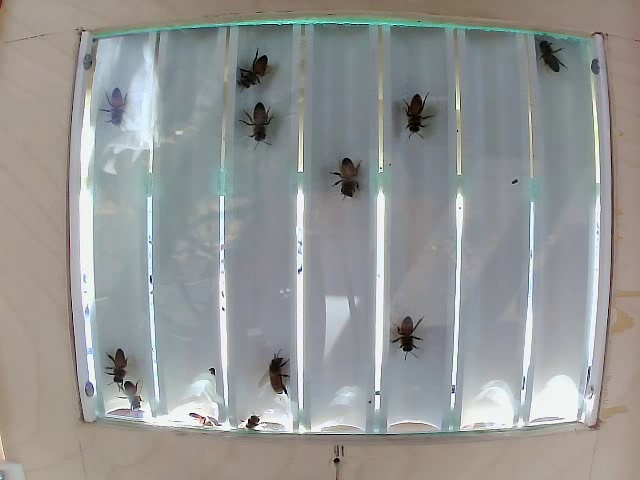bee: (326, 149, 375, 202), (395, 92, 440, 144), (237, 52, 285, 96), (108, 97, 156, 140), (379, 319, 429, 358), (539, 33, 578, 76), (257, 355, 300, 390), (91, 336, 131, 372), (235, 118, 279, 146), (110, 379, 146, 406)
